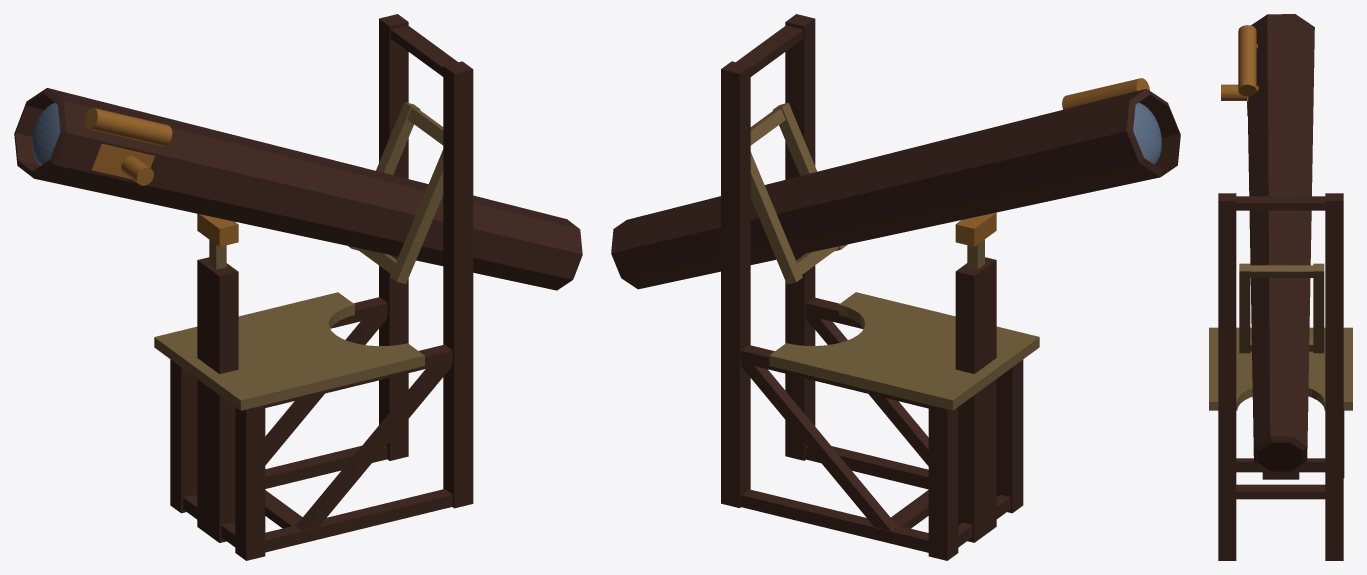
The model's file is Telescope.fbx.
3 views of the same model, side by side, from view 1: azimuth 30°, elevation 25°; view 2: azimuth 150°, elevation 25°; view 3: azimuth 270°, elevation 25° (orthographic). The views are drawn at different scales.
Parts seen in each view (by area): view 1: Cube.001, Cylinder, Cube.015, Cube.018, Cylinder.001, Sphere, Cube.020; view 2: Cube.001, Cylinder, Cube.015, Cube.018, Sphere, Cylinder.001, Cube.020; view 3: Cylinder, Cube.001, Cube.015, Cube.018, Cylinder.001.
Part boxes in pixels (left/top/right/bottom): Cube.001: left=170, top=14, right=473, bottom=560; Cylinder: left=14, top=88, right=582, bottom=290; Cube.015: left=154, top=292, right=424, bottom=410; Cube.018: left=348, top=102, right=443, bottom=283; Cylinder.001: left=84, top=107, right=172, bottom=185; Sphere: left=32, top=103, right=60, bottom=165; Cube.020: left=197, top=213, right=238, bottom=246; Cube.001: left=721, top=14, right=1023, bottom=560; Cylinder: left=611, top=89, right=1180, bottom=289; Cube.015: left=769, top=292, right=1039, bottom=410; Cube.018: left=750, top=102, right=847, bottom=284; Sphere: left=1133, top=102, right=1161, bottom=164; Cylinder.001: left=1062, top=78, right=1149, bottom=109; Cube.020: left=955, top=212, right=996, bottom=246; Cylinder: left=1248, top=14, right=1314, bottom=472; Cube.001: left=1218, top=193, right=1344, bottom=560; Cube.015: left=1209, top=327, right=1352, bottom=410; Cube.018: left=1239, top=263, right=1324, bottom=353; Cylinder.001: left=1221, top=25, right=1258, bottom=116.
Bounding box in the file's own units: 1811 × 1503 × 494.
